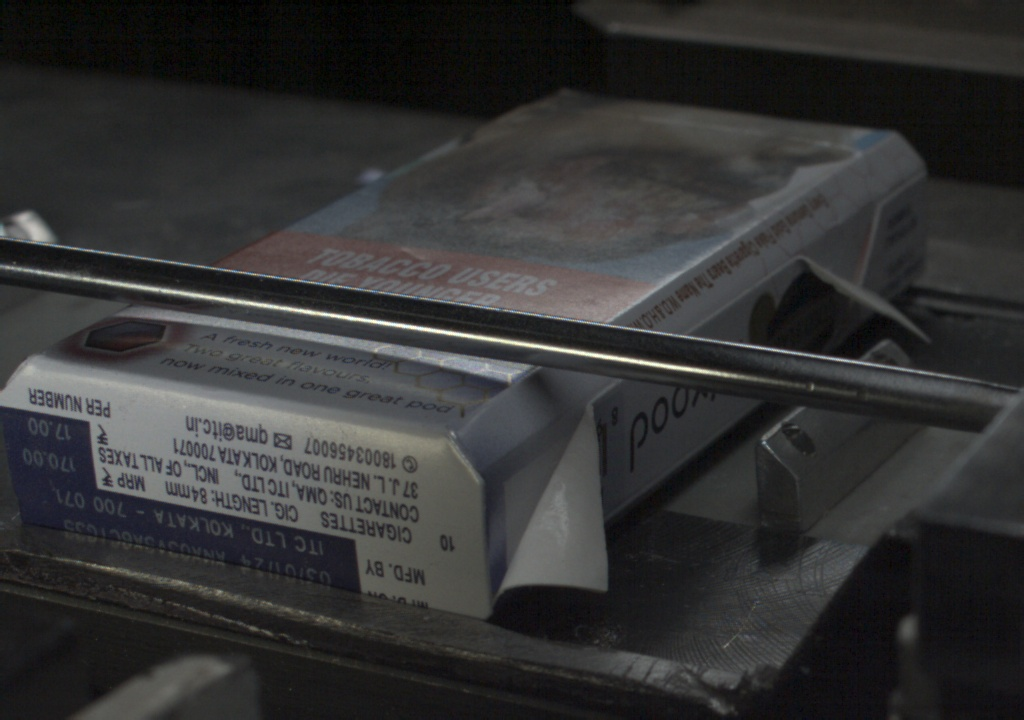g_bottom: (1, 363, 494, 612)
g_label: (13, 477, 356, 592)
g_lmiter: (705, 271, 775, 328)
g_miter: (873, 159, 927, 211)
ng_lmiter: (493, 389, 611, 591), (799, 253, 905, 323)
price: (11, 413, 94, 477)
